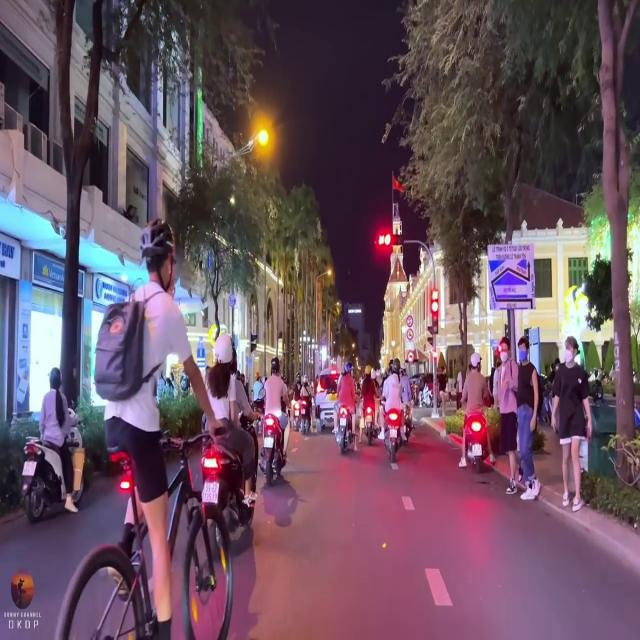bien_trang: (202, 482, 219, 504)
